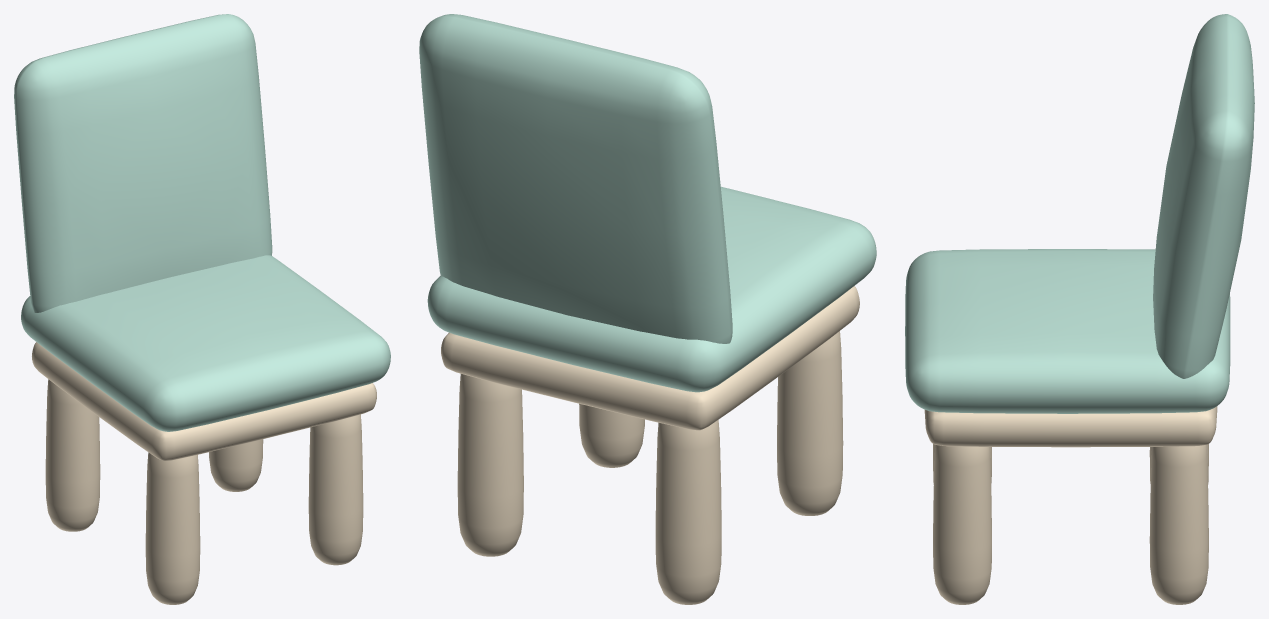
File: chair_a.glb
3 views of the same model, side by side, from view 1: azimuth 30°, elevation 25°; view 2: azimuth 150°, elevation 25°; view 3: azimuth 270°, elevation 25° (orthographic). The views are drawn at different scales.
Parts seen in each view (by area): view 1: body; view 2: body; view 3: body.
Boxes of the visible parts, x1,y1,x2,y2 form: body: [14, 14, 390, 604]; body: [419, 14, 876, 604]; body: [905, 14, 1254, 604].
Bounding box in the file's own units: 0.48 × 0.854 × 0.5483.
